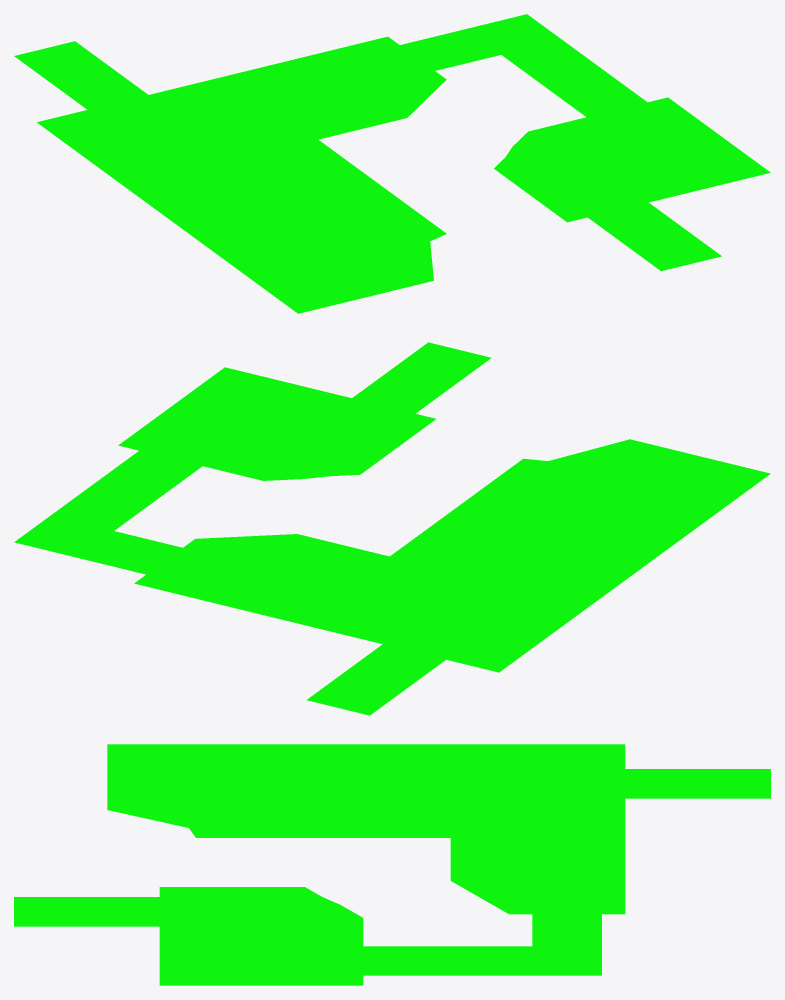
Rendered from s05a_ic1-floor.glb.
3 views of the same model, one above another, from view 1: azimuth 30°, elevation 25°; view 2: azimuth 150°, elevation 25°; view 3: azimuth 270°, elevation 25° (orthographic). The views are drawn at different scales.
Visible parts, largest first — view 1: collision_floor-colonly; view 2: collision_floor-colonly; view 3: collision_floor-colonly.
Boxes of the visible parts, x1,y1,x2,y2 form: collision_floor-colonly: (14, 14, 770, 313); collision_floor-colonly: (14, 342, 770, 715); collision_floor-colonly: (14, 744, 770, 985).
Size of the model in its own units: 49 by 0 by 65.
